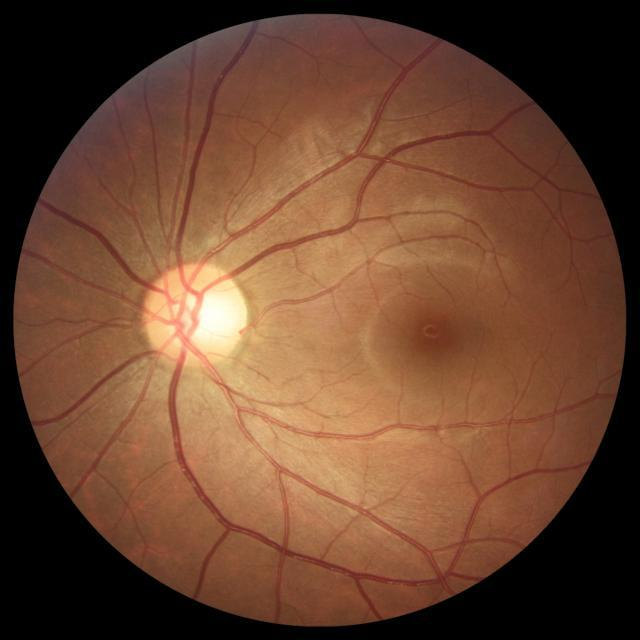OC: (174, 291, 232, 343)
OD: (144, 262, 248, 366)
